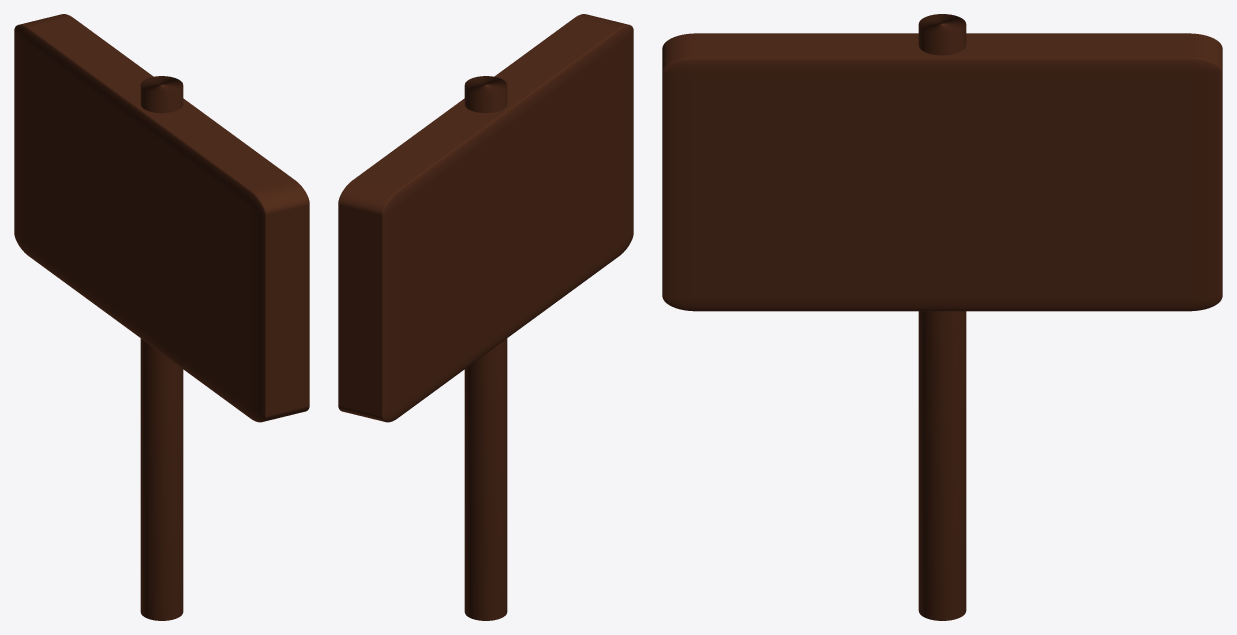
Rendered from wooden-sign.obj.
3 renders of one model, left to right at view 1: azimuth 30°, elevation 25°; view 2: azimuth 150°, elevation 25°; view 3: azimuth 270°, elevation 25°, orthographic. The views are drawn at different scales.
Visible parts, largest first — view 1: Cube, Cylinder; view 2: Cube, Cylinder; view 3: Cube, Cylinder.
Part boxes in pixels (bbox=[...]): Cube: bbox=[14, 14, 309, 422]; Cylinder: bbox=[140, 76, 183, 620]; Cube: bbox=[338, 14, 633, 422]; Cylinder: bbox=[464, 76, 507, 620]; Cube: bbox=[662, 33, 1222, 311]; Cylinder: bbox=[918, 14, 966, 620].
Size of the model in its own units: 0.3918 by 3.99 by 3.45.
